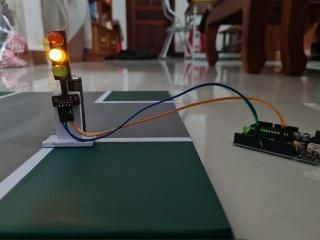yellow: (34, 21, 85, 90)
